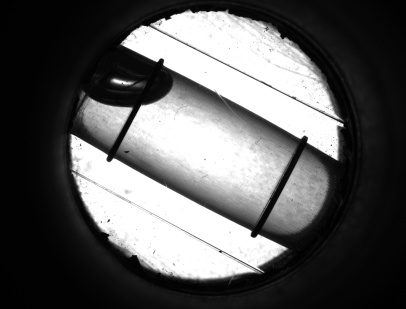line: (254, 157, 303, 217), (109, 112, 140, 142)
